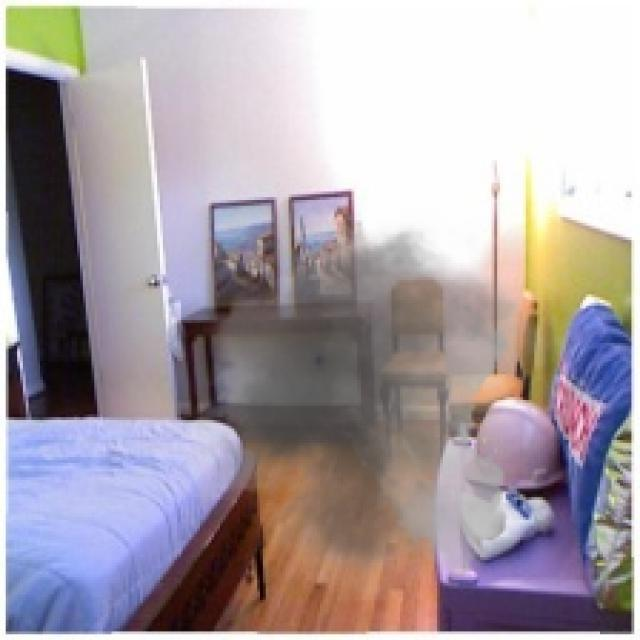Smoke: (168, 200, 594, 603)
